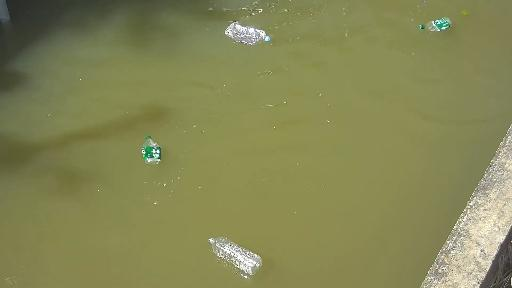leaf: (455, 7, 469, 20)
plastic: (208, 16, 307, 59), (197, 224, 266, 270), (409, 9, 458, 35), (143, 131, 172, 172)
